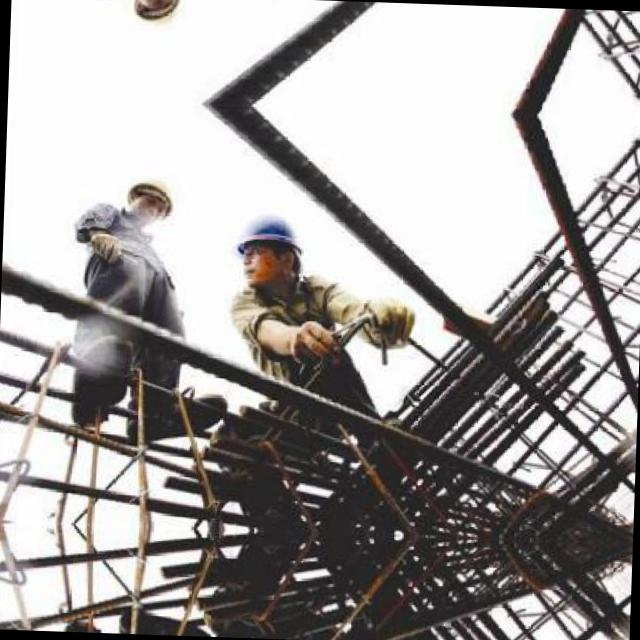helmet: (226, 200, 305, 298), (115, 172, 177, 234), (120, 0, 183, 29)
